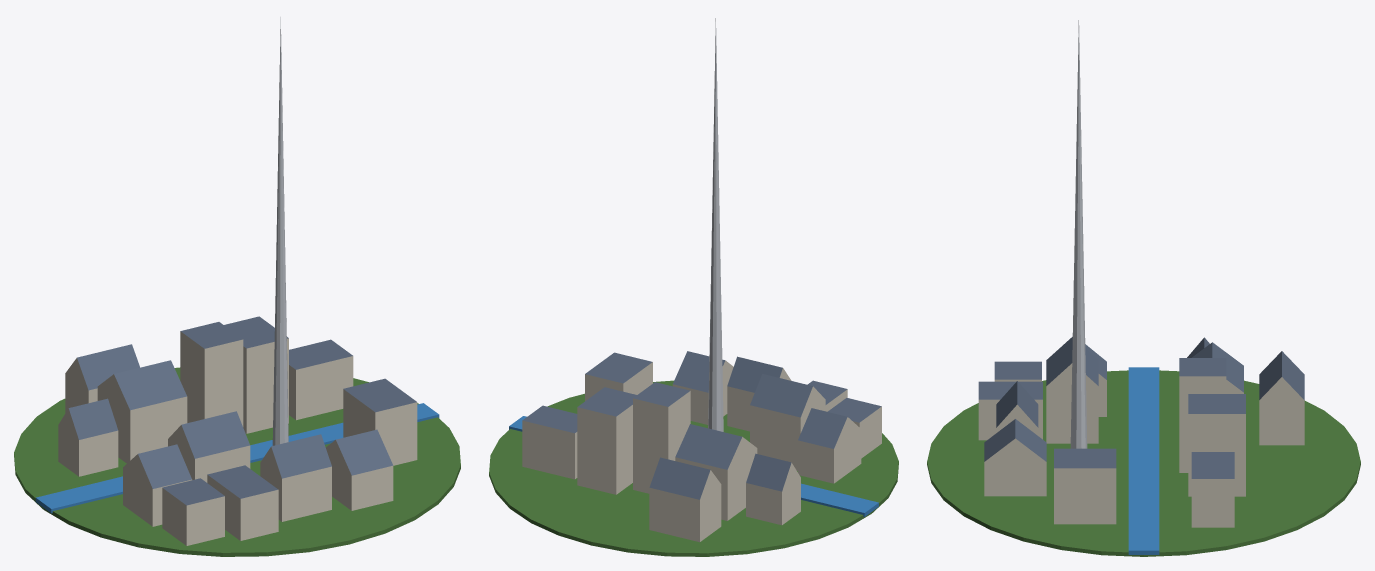
Rendered from dublin.glb.
3 views of the same model, side by side, from view 1: azimuth 30°, elevation 25°; view 2: azimuth 150°, elevation 25°; view 3: azimuth 270°, elevation 25° (orthographic). The views are drawn at different scales.
Bounding box in the file's own units: 2 × 2.32 × 2.
